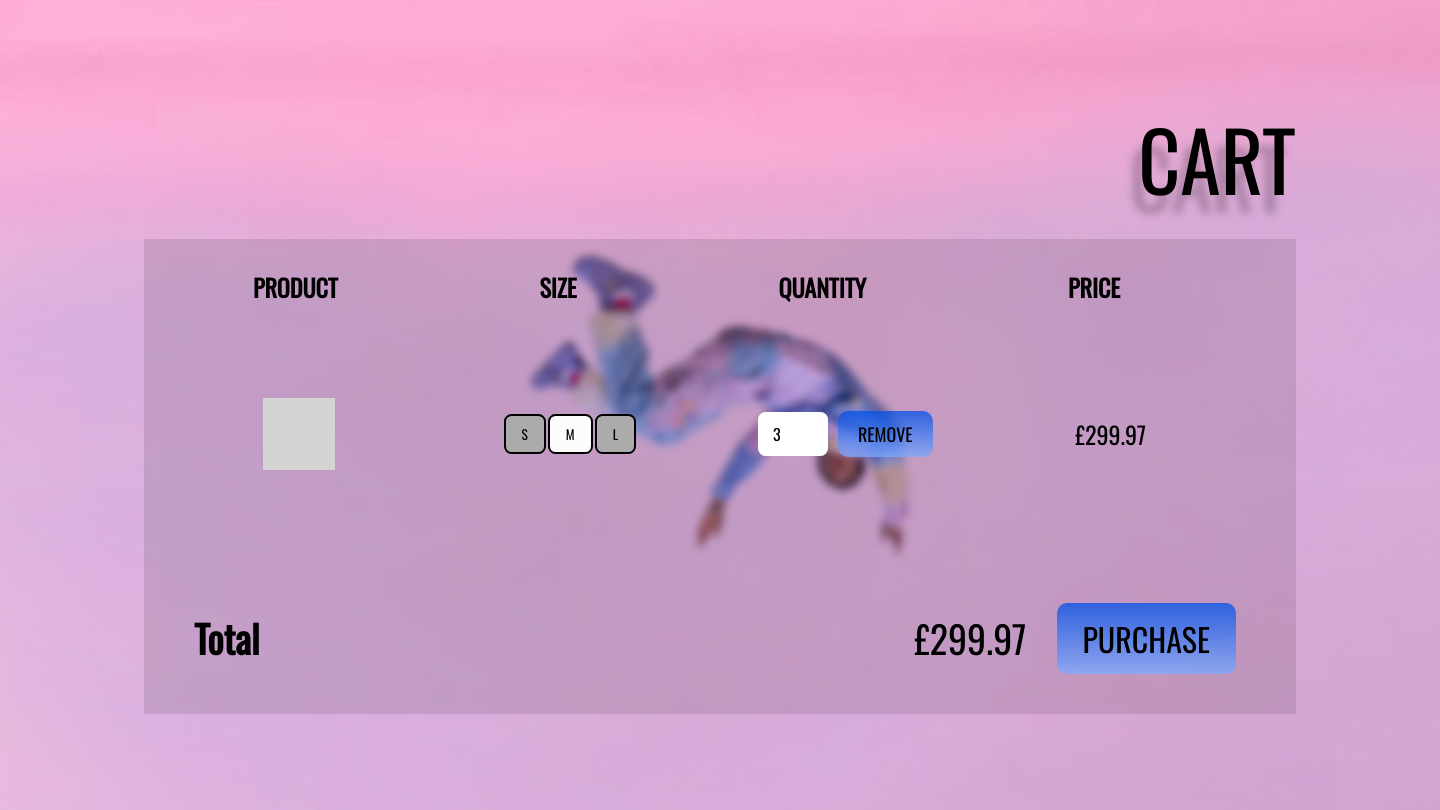
<CartSection /> › Should set quantity of item to an integer if a decimal for the quantity is provided
Replace the text in the number field with test id "updateQuantity-11" with "1.5" at (793, 434), box [758,412,828,456]
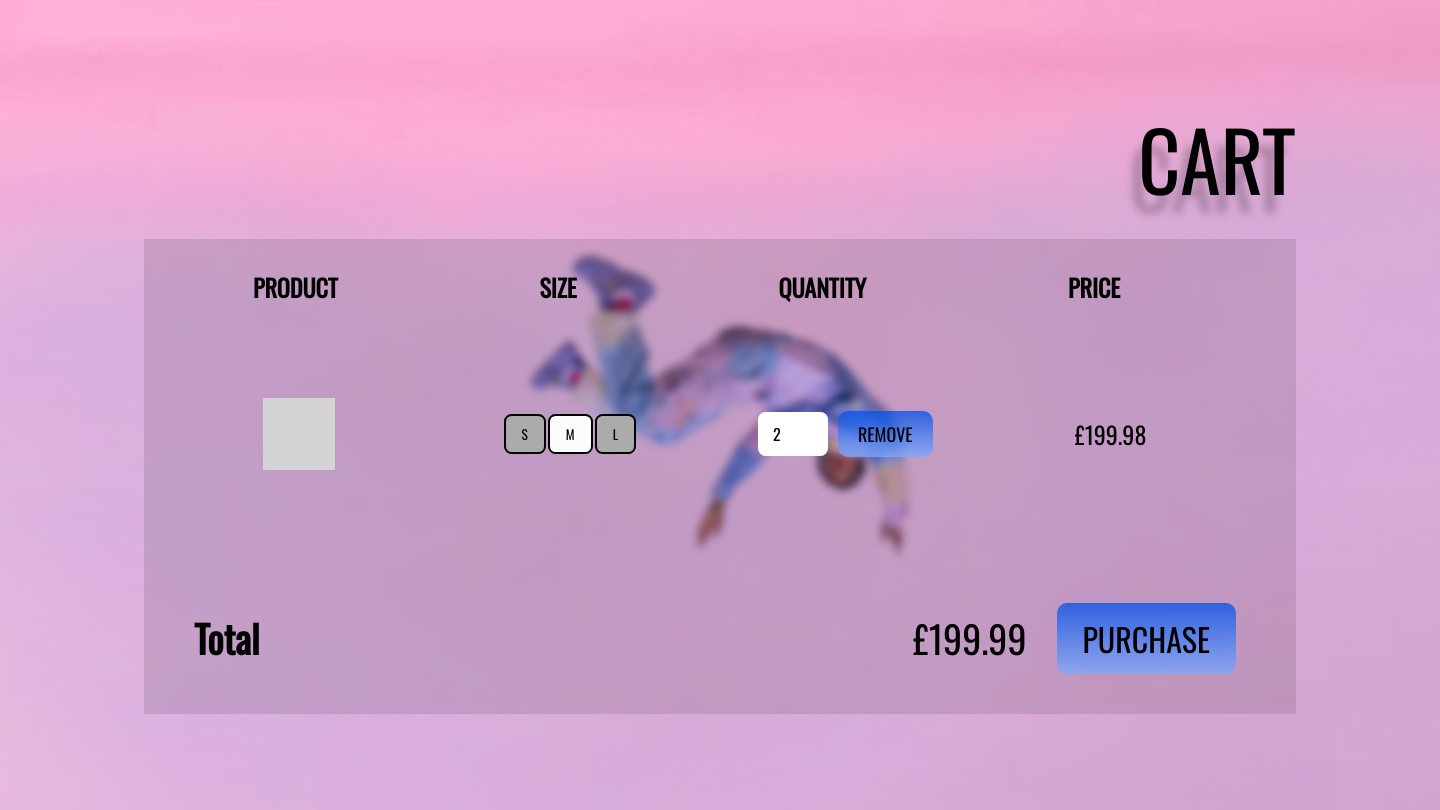
Expected: the number field with test id "updateQuantity-11" holds "2", [758,412,828,456]
